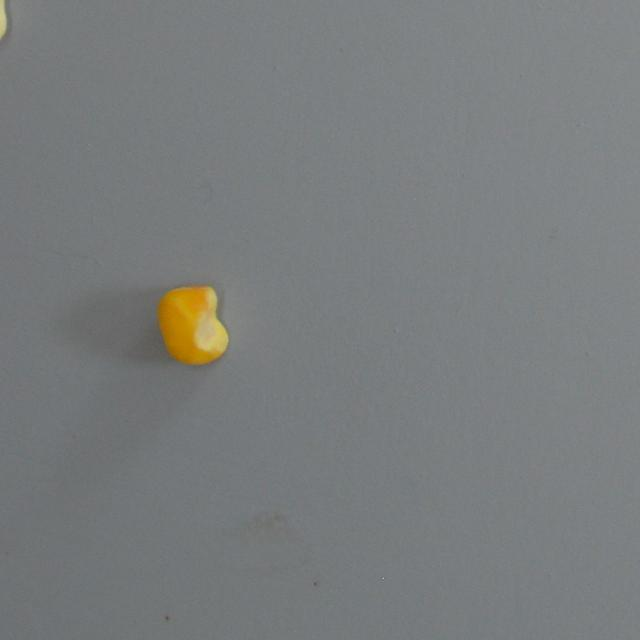no_canjicado: (156, 284, 230, 364)
